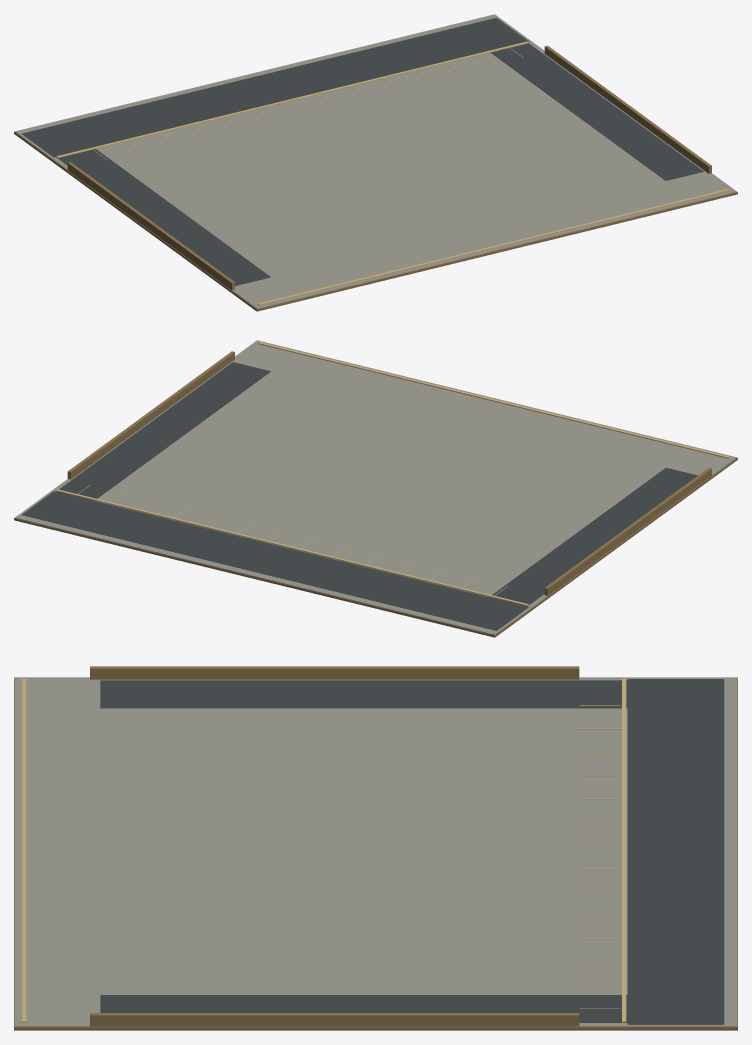
The model's file is KOL_T1_ROYAL__Foundation.fbx.
3 renders of one model, top to bottom at view 1: azimuth 30°, elevation 25°; view 2: azimuth 150°, elevation 25°; view 3: azimuth 270°, elevation 25°, orthographic. The views are drawn at different scales.
Visible parts, largest first — view 1: KOL_T1_ROYAL__Foundation__KOL_T1_Paving, KOL_T1_ROYAL__Foundation__KOL_T1_Asphalt, KOL_T1_ROYAL__Foundation__KOL_T1_RoyalStone, KOL_T1_ROYAL__Foundation__KOL_T1_RoyalTrim; view 2: KOL_T1_ROYAL__Foundation__KOL_T1_Paving, KOL_T1_ROYAL__Foundation__KOL_T1_Asphalt, KOL_T1_ROYAL__Foundation__KOL_T1_RoyalStone, KOL_T1_ROYAL__Foundation__KOL_T1_RoyalTrim; view 3: KOL_T1_ROYAL__Foundation__KOL_T1_Paving, KOL_T1_ROYAL__Foundation__KOL_T1_Asphalt, KOL_T1_ROYAL__Foundation__KOL_T1_RoyalStone, KOL_T1_ROYAL__Foundation__KOL_T1_RoyalTrim.
Boxes of the visible parts, x1=… form: KOL_T1_ROYAL__Foundation__KOL_T1_Paving: x1=15, y1=14, x2=736, y2=309; KOL_T1_ROYAL__Foundation__KOL_T1_Asphalt: x1=22, y1=18, x2=703, y2=285; KOL_T1_ROYAL__Foundation__KOL_T1_RoyalStone: x1=14, y1=45, x2=737, y2=311; KOL_T1_ROYAL__Foundation__KOL_T1_RoyalTrim: x1=56, y1=41, x2=730, y2=305; KOL_T1_ROYAL__Foundation__KOL_T1_Paving: x1=15, y1=340, x2=736, y2=635; KOL_T1_ROYAL__Foundation__KOL_T1_Asphalt: x1=22, y1=362, x2=697, y2=630; KOL_T1_ROYAL__Foundation__KOL_T1_RoyalStone: x1=14, y1=351, x2=737, y2=637; KOL_T1_ROYAL__Foundation__KOL_T1_RoyalTrim: x1=56, y1=342, x2=730, y2=605; KOL_T1_ROYAL__Foundation__KOL_T1_Paving: x1=15, y1=677, x2=736, y2=1026; KOL_T1_ROYAL__Foundation__KOL_T1_Asphalt: x1=100, y1=679, x2=724, y2=1024; KOL_T1_ROYAL__Foundation__KOL_T1_RoyalStone: x1=14, y1=666, x2=737, y2=1030; KOL_T1_ROYAL__Foundation__KOL_T1_RoyalTrim: x1=22, y1=679, x2=626, y2=1022.
Size of the model in its own units: 240 by 4.75 by 210.
